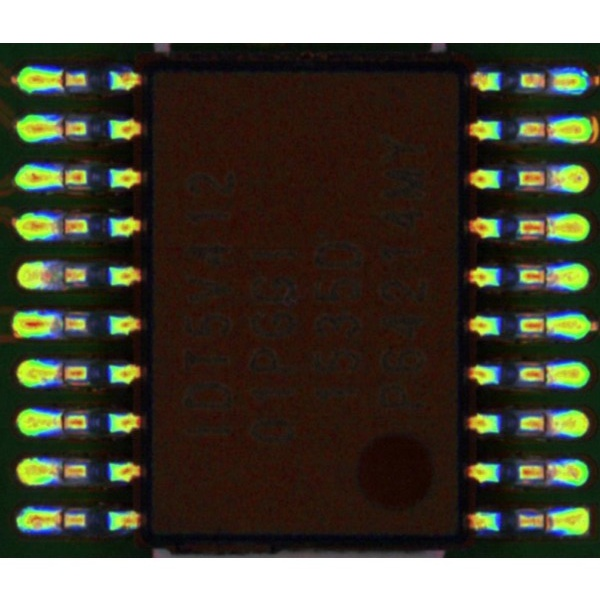Bad_podu: (45, 511, 72, 526), (51, 366, 75, 381), (45, 219, 74, 231), (534, 74, 565, 85), (43, 465, 73, 476), (537, 415, 560, 429), (50, 171, 73, 184), (53, 415, 75, 427), (536, 465, 558, 477), (54, 71, 70, 87), (540, 121, 557, 135), (55, 120, 72, 133), (538, 515, 556, 527), (539, 269, 556, 281)
